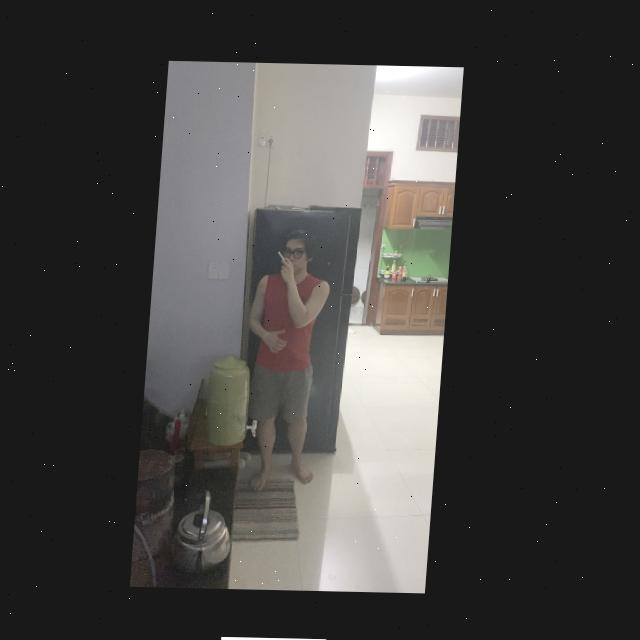cigarette: (281, 250, 288, 259)
